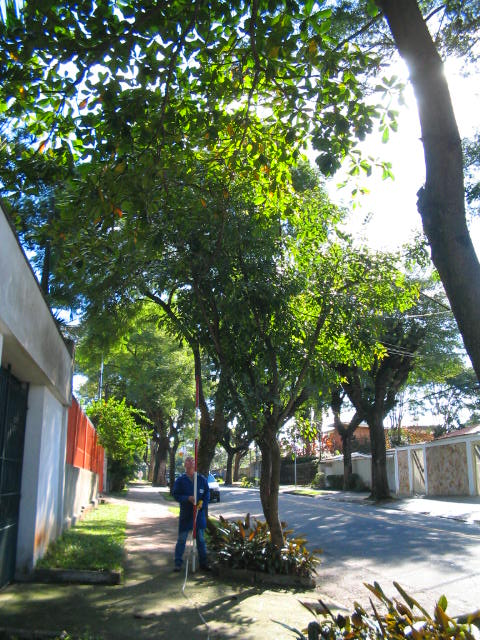crown: (61, 129, 420, 409)
stem: (360, 423, 406, 499), (255, 497, 294, 571), (333, 436, 362, 492)
stick: (185, 373, 208, 573)
tree: (57, 127, 424, 572), (331, 318, 433, 501)
